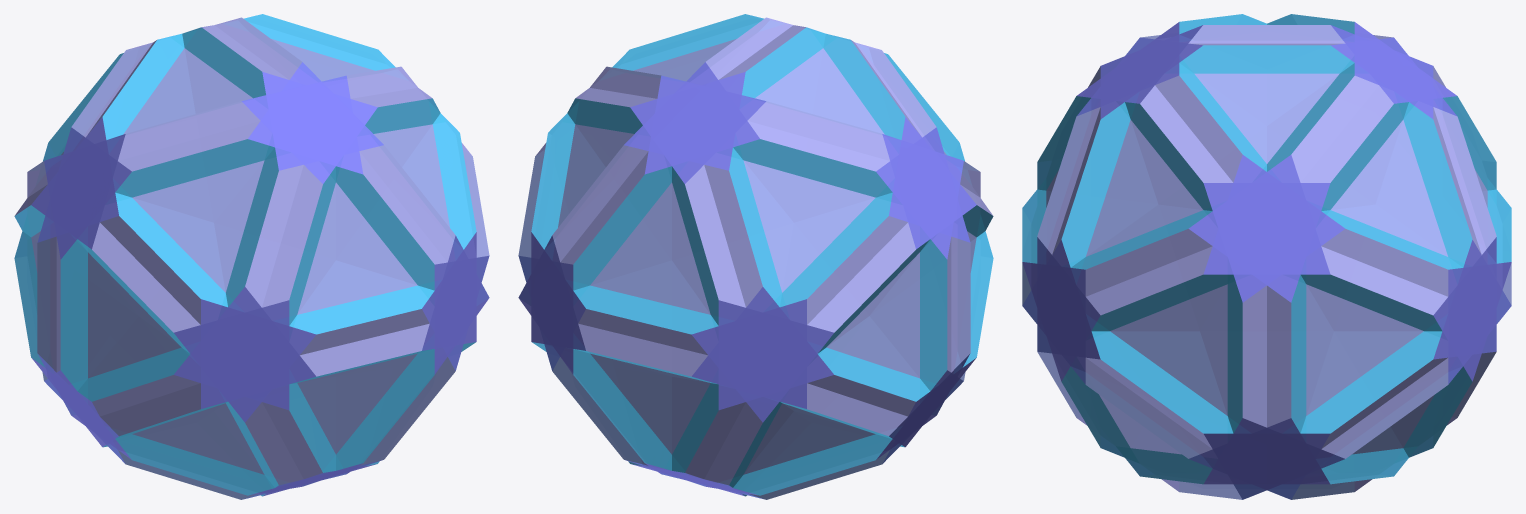
File: IcositruncatedDodecadodecahedron.obj
The picture shows the model from 3 angles, left to right: view 1: azimuth 30°, elevation 25°; view 2: azimuth 150°, elevation 25°; view 3: azimuth 270°, elevation 25°; orthographic projection. The views are drawn at different scales.
Size of the model in its own units: 3.85 by 3.85 by 3.85.
